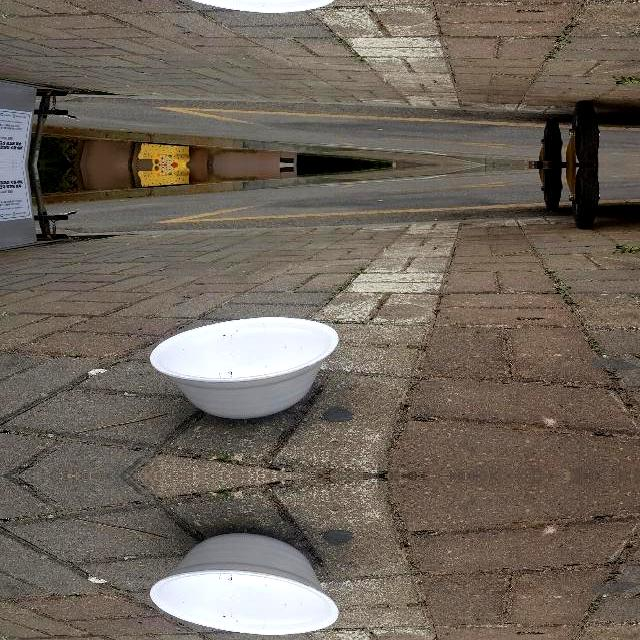Styrofoam: (147, 312, 339, 418), (147, 532, 339, 638), (150, 316, 339, 418), (150, 532, 339, 634)
